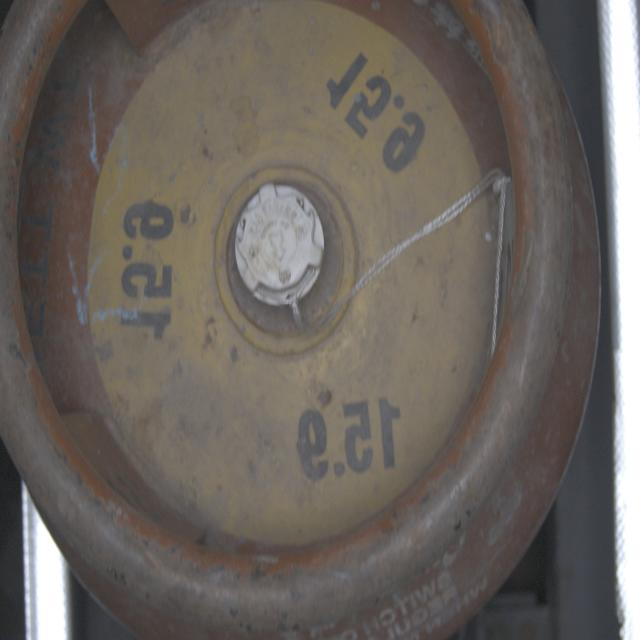Cap: (233, 173, 326, 306)
